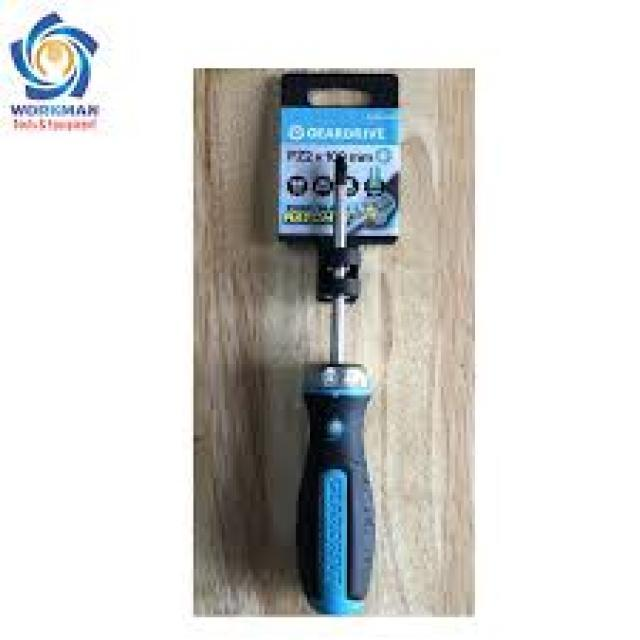screwdriver: (296, 149, 376, 616)
